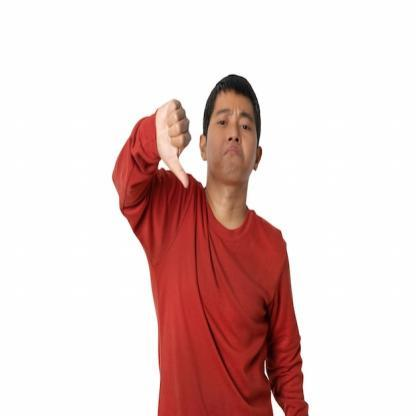thumb_down: (153, 98, 195, 192)
